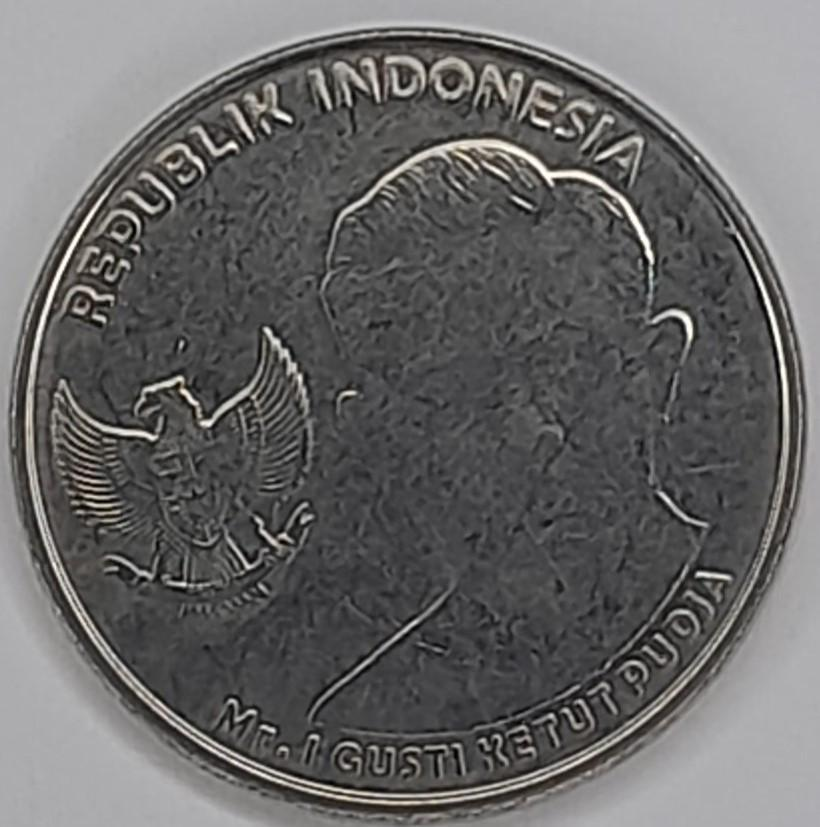coin_1000_e2016: (14, 16, 809, 827)
